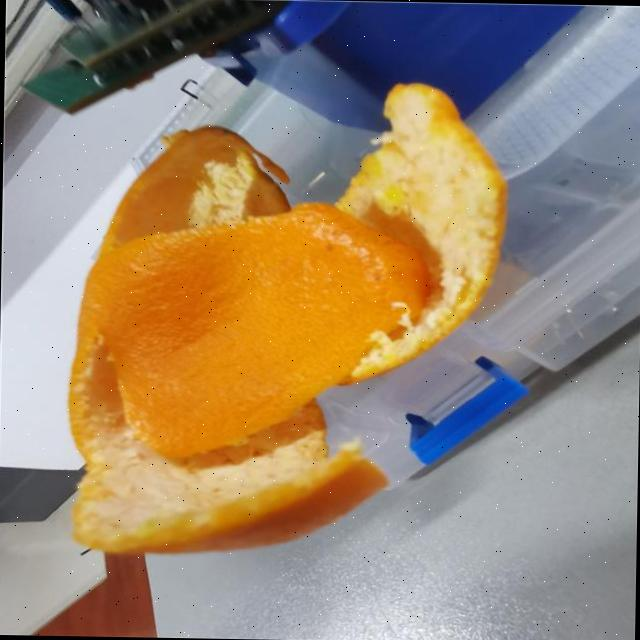orange-peel: (63, 76, 509, 558), (87, 195, 436, 463)
